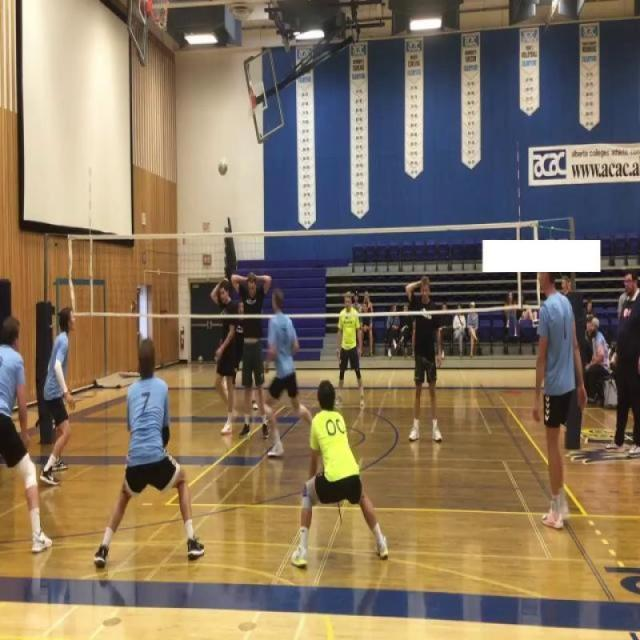volleyball: (218, 156, 228, 176)
